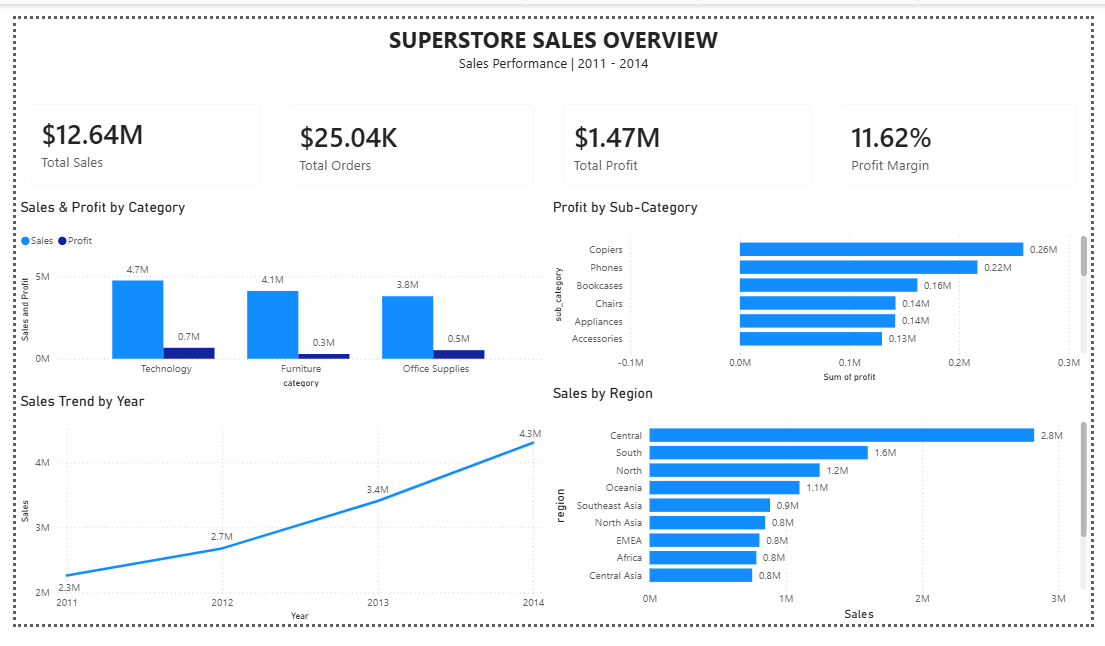

The page's visual inventory and layout, read from the dashboard file:
{"tool":"powerbi","page":{"name":"Sales Overview","canvas":[1280,720],"ordinal":0},"visuals":[{"type":"cardVisual","title":"Total Sales","fields":{"Data":["Sum(Superstore_Sales_SQL_Ready.sales)"]},"box":[0,84,308,130],"z":0},{"type":"cardVisual","title":"Total Profit","fields":{"Data":["Sum(Superstore_Sales_SQL_Ready.profit)"]},"box":[634,84,330,130],"z":1000},{"type":"cardVisual","title":"Total Orders","fields":{"Data":["Count(Superstore_Sales_SQL_Ready.order_id)"]},"box":[308,84,326,130],"z":2000},{"type":"cardVisual","title":"Profit Margin","fields":{"Data":["Superstore_Sales_SQL_Ready.Profit Margin %"]},"box":[964,84,316,130],"z":3000},{"type":"clusteredColumnChart","title":"Sales & Profit by Category","fields":{"Category":["Superstore_Sales_SQL_Ready.category"],"Y":["Sum(Superstore_Sales_SQL_Ready.sales)","Sum(Superstore_Sales_SQL_Ready.profit)"]},"box":[0,214.6,633.3,229.2],"z":4000},{"type":"lineChart","title":"Sales Trend by Year","fields":{"Category":["Superstore_Sales_SQL_Ready.order_date.Variation.Date Hierarchy.Year","Superstore_Sales_SQL_Ready.order_date.Variation.Date Hierarchy.Quarter","Superstore_Sales_SQL_Ready.order_date.Variation.Date Hierarchy.Month","Superstore_Sales_SQL_Ready.order_date.Variation.Date Hierarchy.Day"],"Y":["Sum(Superstore_Sales_SQL_Ready.sales)"]},"box":[0,443.8,633.3,277.1],"z":5000},{"type":"barChart","title":"Profit by Sub-Category","fields":{"Category":["Superstore_Sales_SQL_Ready.sub_category"],"Y":["Sum(Superstore_Sales_SQL_Ready.profit)"]},"box":[634,214,646,222],"z":6000},{"type":"clusteredBarChart","title":"Sales by Region","fields":{"Category":["Superstore_Sales_SQL_Ready.region"],"Y":["Sum(Superstore_Sales_SQL_Ready.sales)"]},"box":[633.3,435.4,645.8,285.4],"z":7000},{"type":"textbox","box":[0,0,1280,82],"z":8000}]}

Visuals, with their boxes on the page's 1280x720 design canvas (x1, y1, x2, y2). These are canvas units, not pixel positions in the 1105x646 screenshot, which may show the page scaled, cropped or inside an application window:
"Total Sales" cardVisual: l=0, t=84, r=308, b=214
"Total Profit" cardVisual: l=634, t=84, r=964, b=214
"Total Orders" cardVisual: l=308, t=84, r=634, b=214
"Profit Margin" cardVisual: l=964, t=84, r=1280, b=214
"Sales & Profit by Category" clusteredColumnChart: l=0, t=215, r=633, b=444
"Sales Trend by Year" lineChart: l=0, t=444, r=633, b=721
"Profit by Sub-Category" barChart: l=634, t=214, r=1280, b=436
"Sales by Region" clusteredBarChart: l=633, t=435, r=1279, b=721
textbox: l=0, t=0, r=1280, b=82
